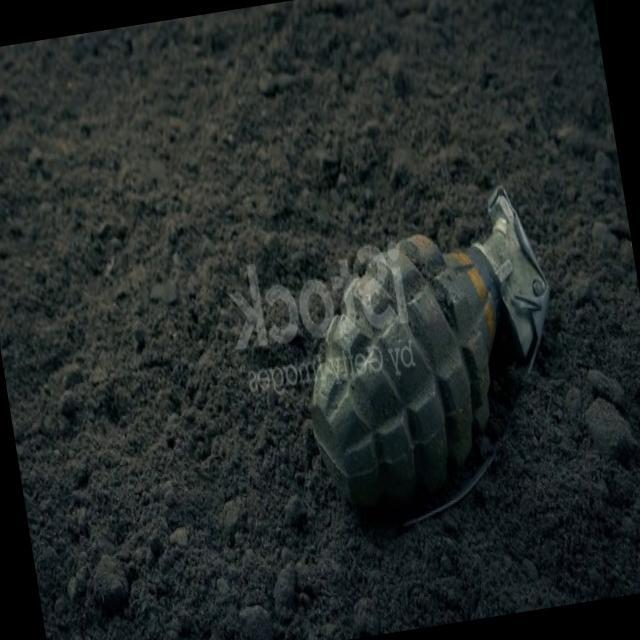grenade: (276, 176, 592, 563)
